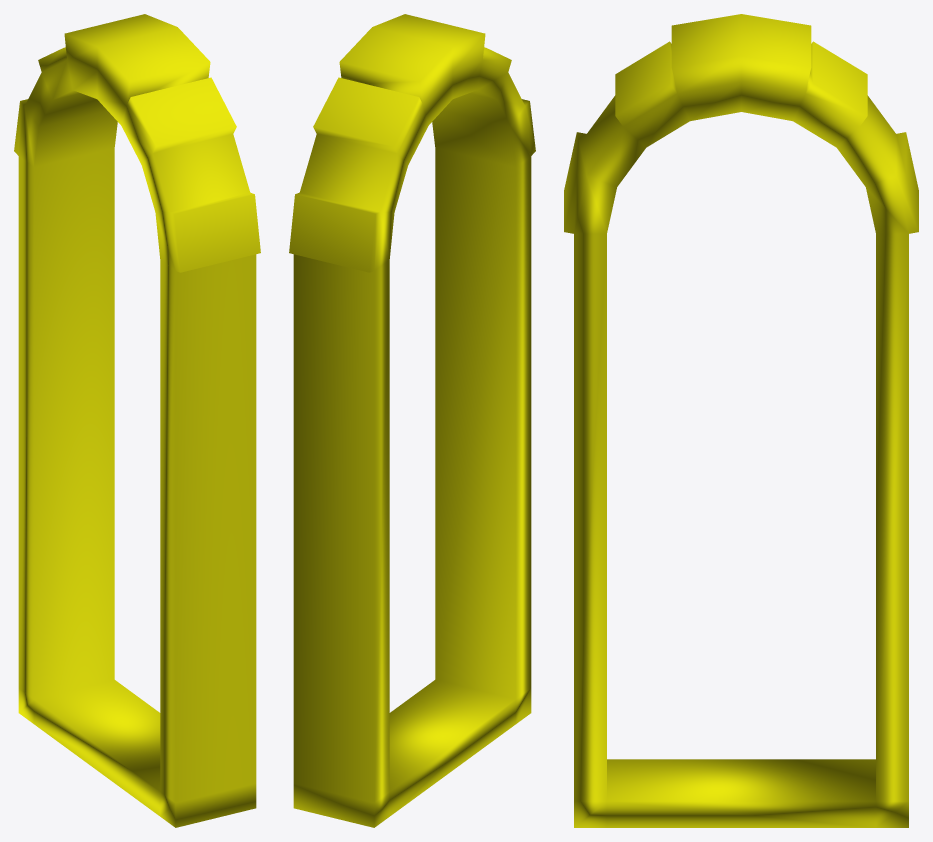
The model's file is Window_02_B.fbx.
3 views of the same model, side by side, from view 1: azimuth 30°, elevation 25°; view 2: azimuth 150°, elevation 25°; view 3: azimuth 270°, elevation 25° (orthographic). The views are drawn at different scales.
Parts seen in each view (by area): view 1: Window_02_B; view 2: Window_02_B; view 3: Window_02_B.
Part boxes in pixels (bbox=[...]): Window_02_B: bbox=[14, 14, 260, 827]; Window_02_B: bbox=[289, 14, 535, 827]; Window_02_B: bbox=[564, 14, 918, 827].
Bounding box in the file's own units: 44.08 × 378 × 157.
